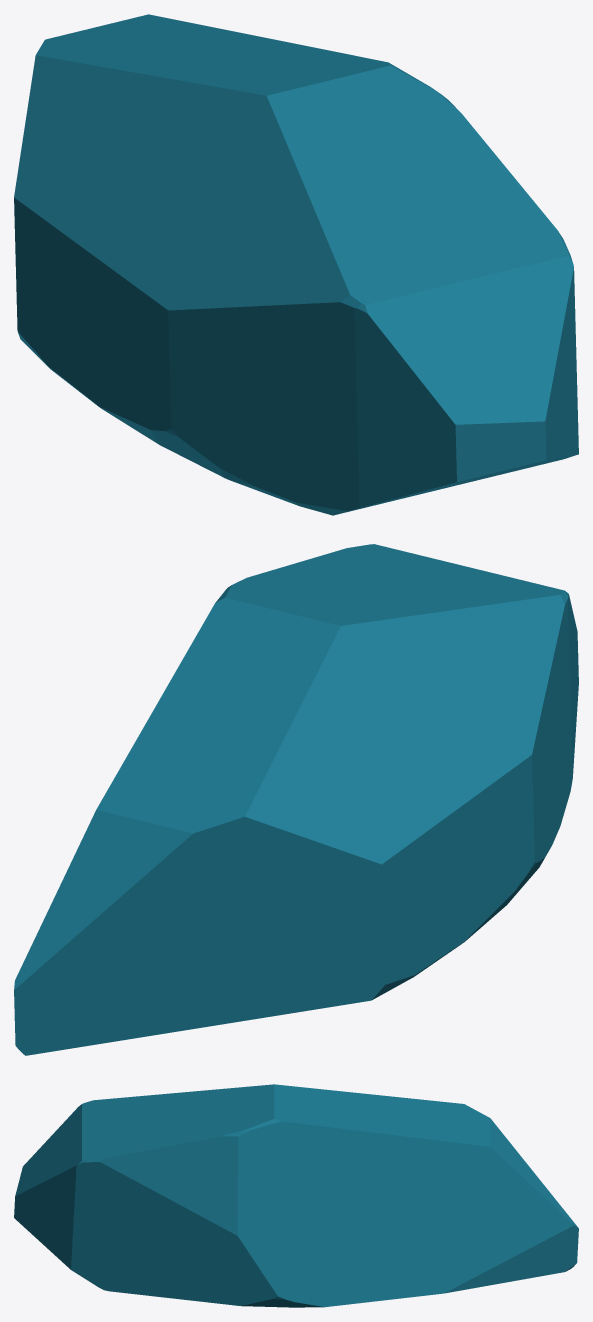
File: Pedra_03.fbx
3 renders of one model, top to bottom at view 1: azimuth 30°, elevation 25°; view 2: azimuth 150°, elevation 25°; view 3: azimuth 270°, elevation 25°, orthographic. The views are drawn at different scales.
Parts seen in each view (by area): view 1: Pedra_03; view 2: Pedra_03; view 3: Pedra_03.
Boxes of the visible parts, bbox=[...] form: Pedra_03: bbox=[14, 14, 578, 515]; Pedra_03: bbox=[14, 544, 578, 1055]; Pedra_03: bbox=[14, 1084, 578, 1307].
Bounding box in the file's own units: 29.13 × 21.68 × 67.19.
